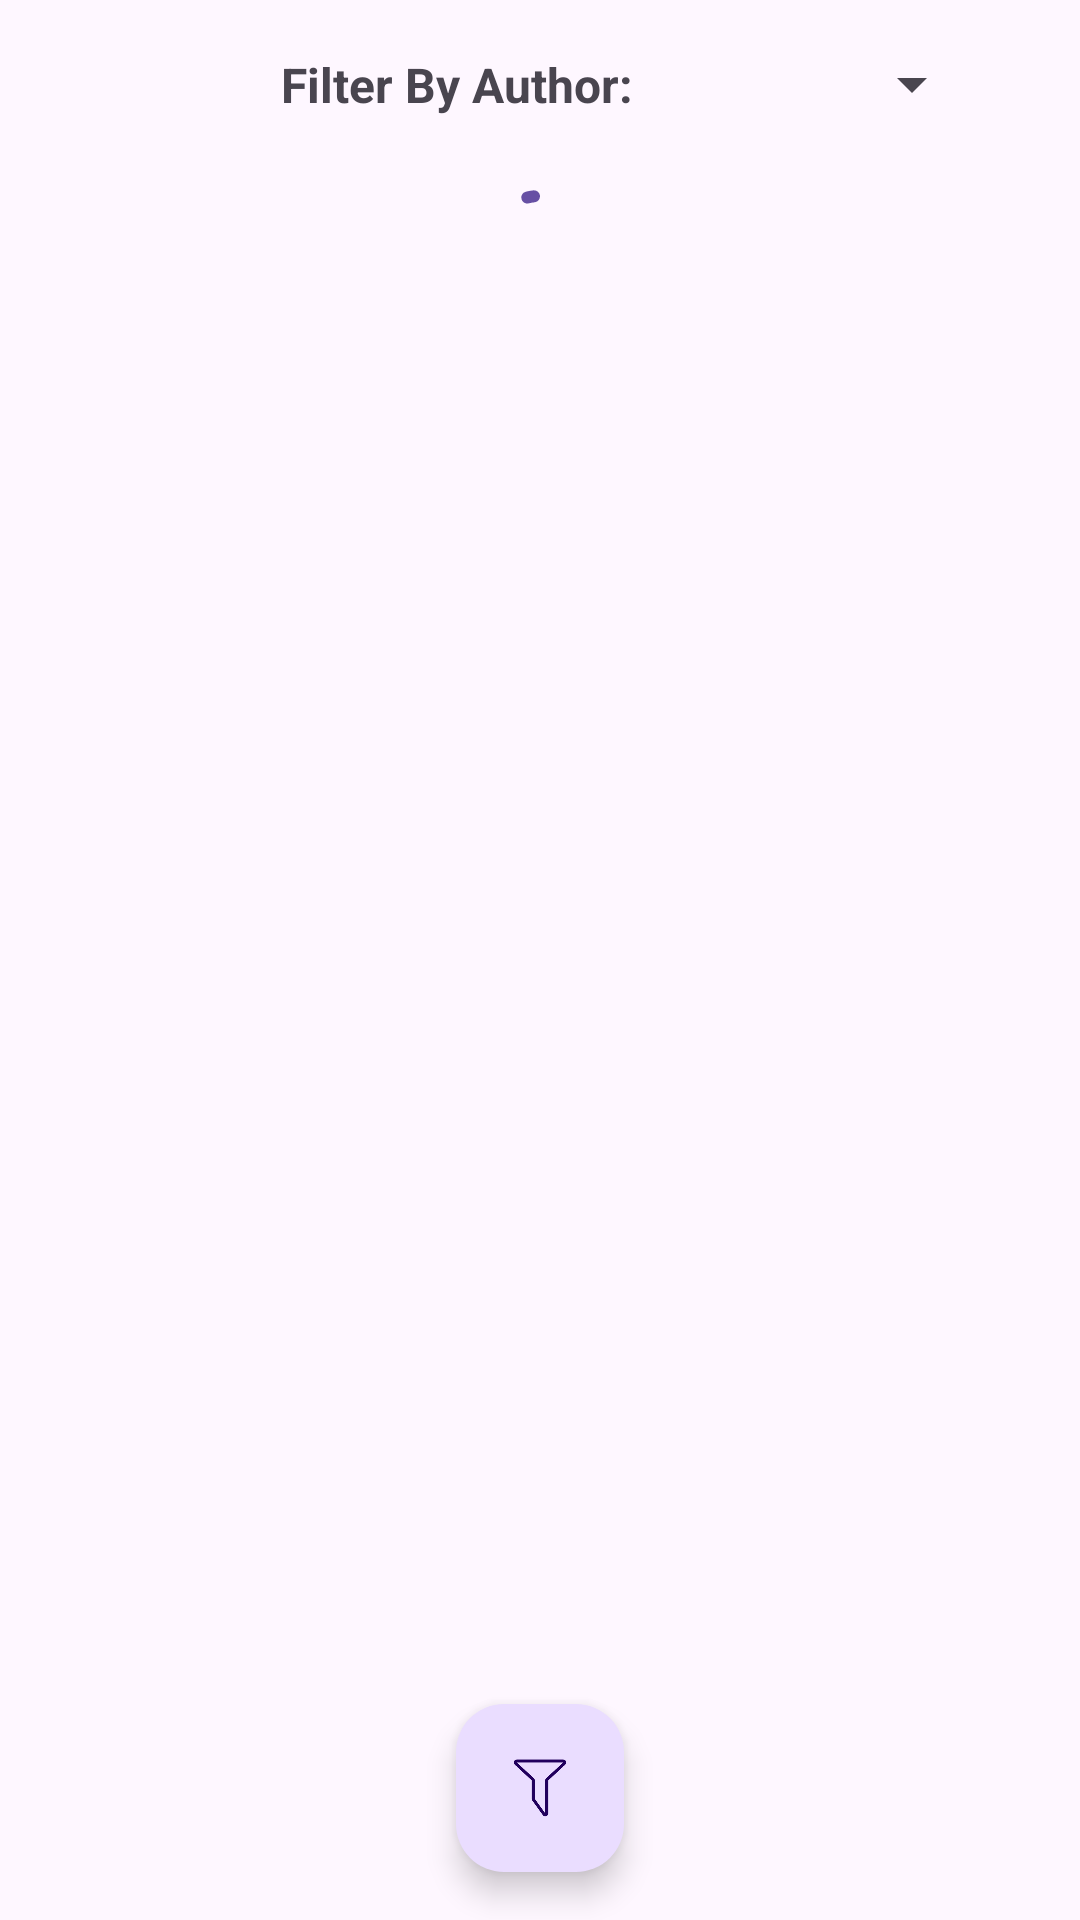

Screen size 1080×1920. Icon name, then its box in pixels as (x1, y1, x2, y2):
filter: (456, 1704, 624, 1872)
